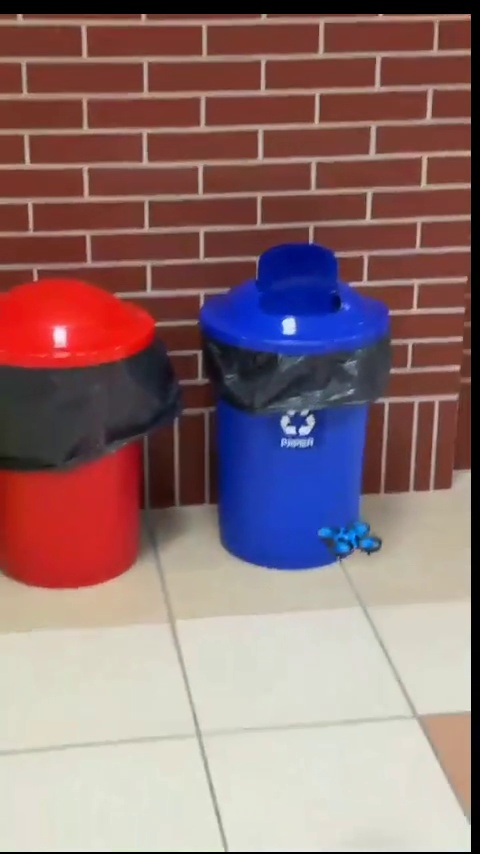drone: (317, 521, 380, 564)
